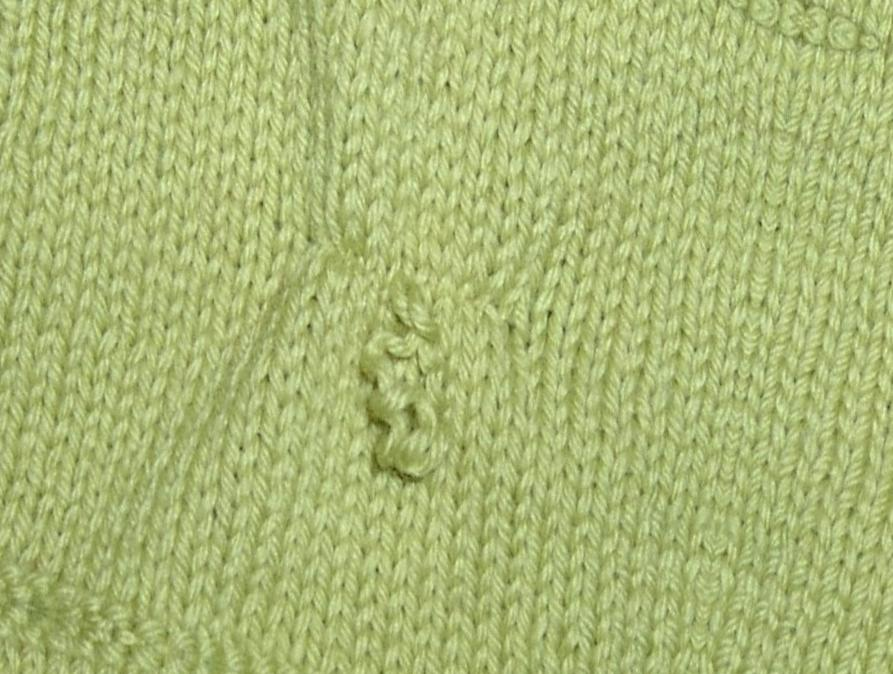knot: (356, 272, 460, 493)
